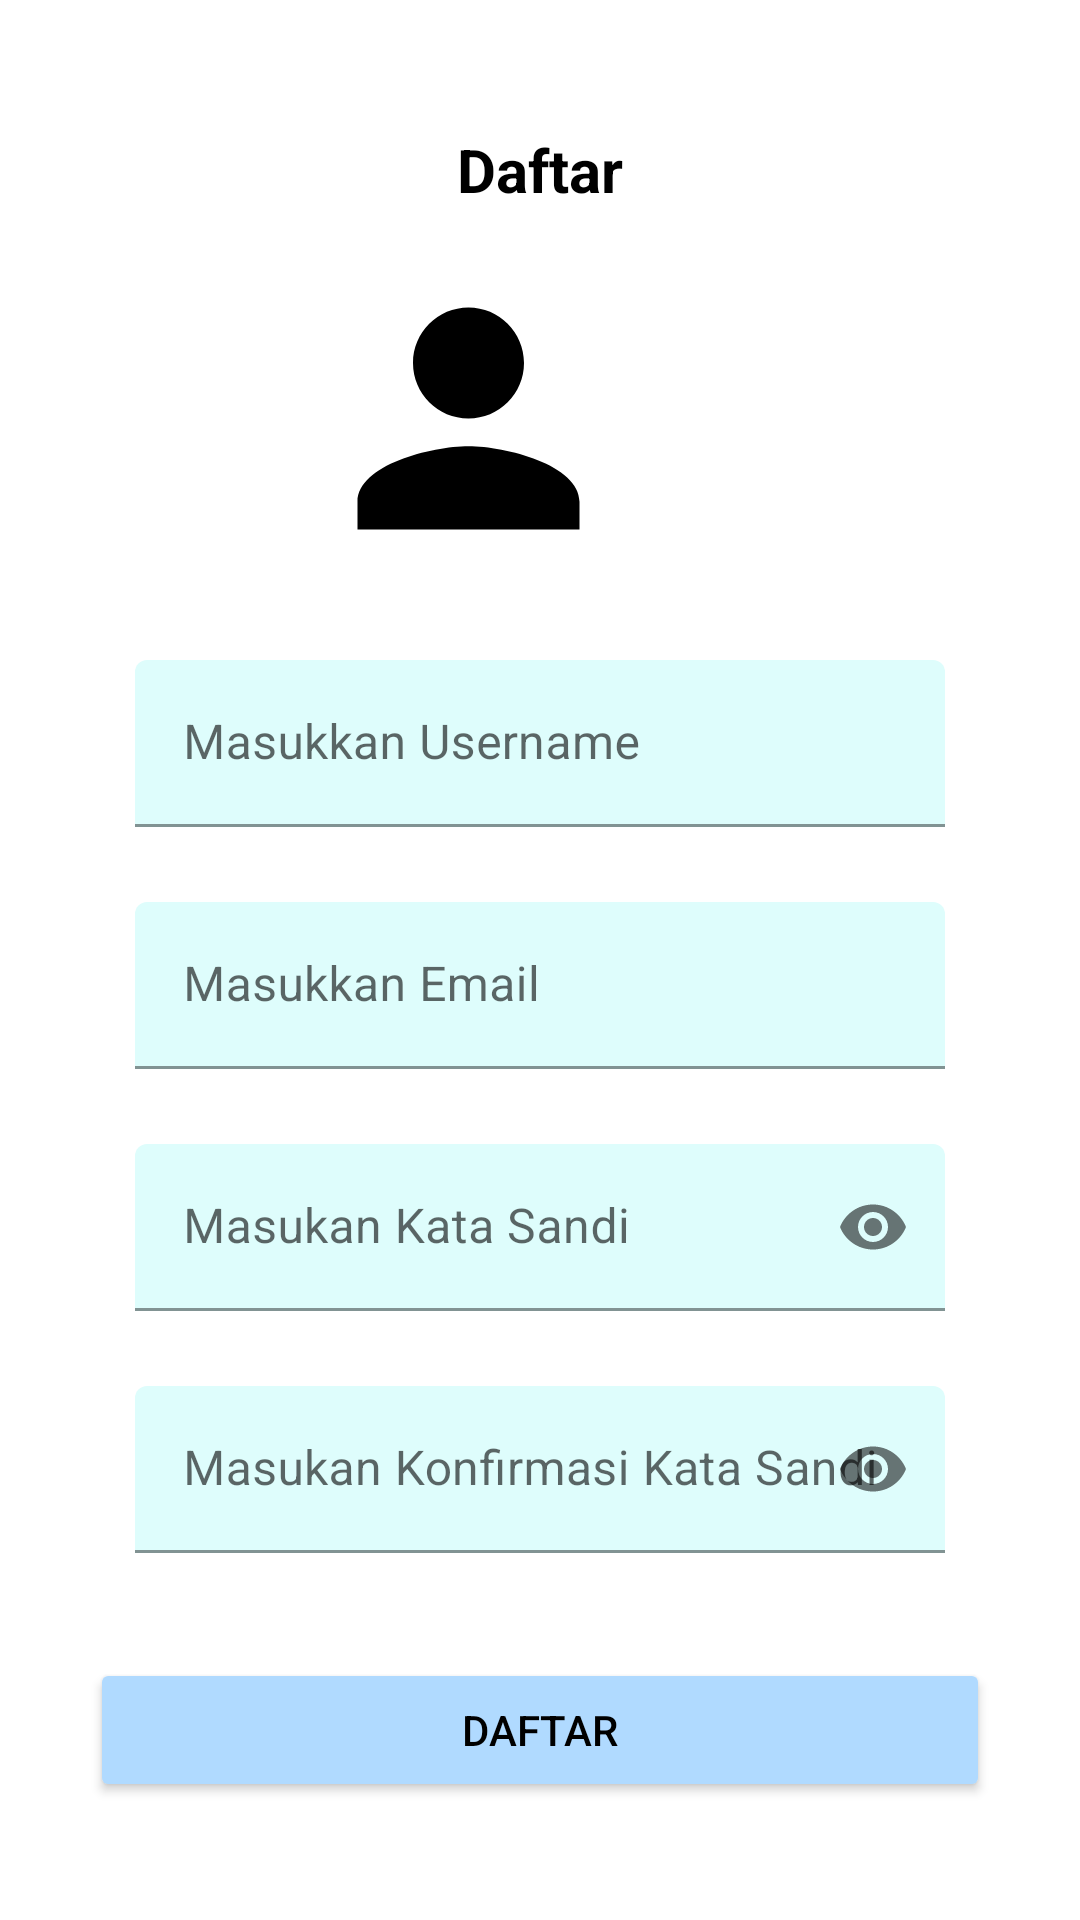

Locate icon controls on the screen. Image size 1080px x 1920px, boxes as bbox=(x1, y1, x2, y2).
person: bbox=(357, 307, 580, 530)
